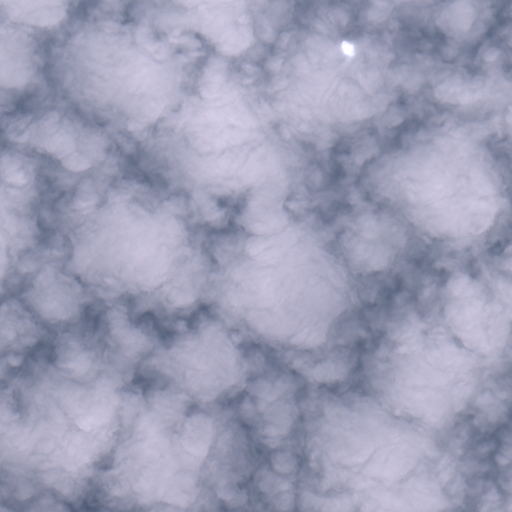Iceberg: (342, 41, 353, 56)
